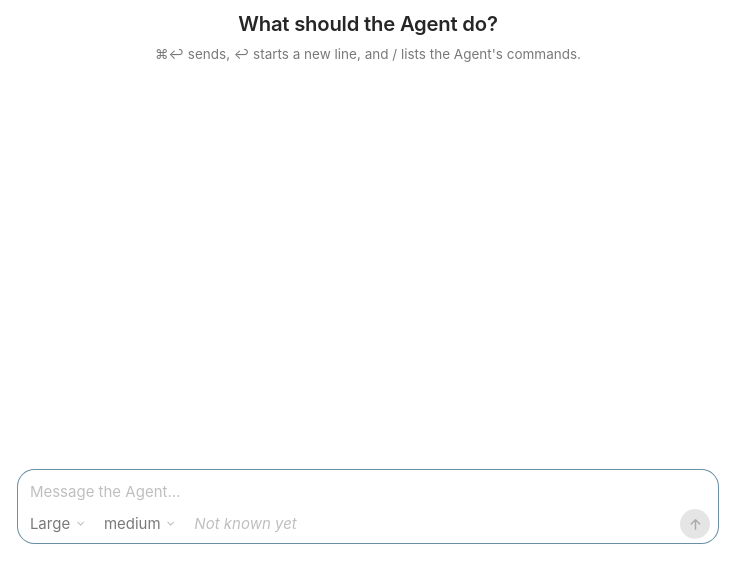
Test: an open picker › closes when the keyboard leaves it
Click the dropdown named "Model" at {"x": 58, "y": 524}, box [22,510,94,538]
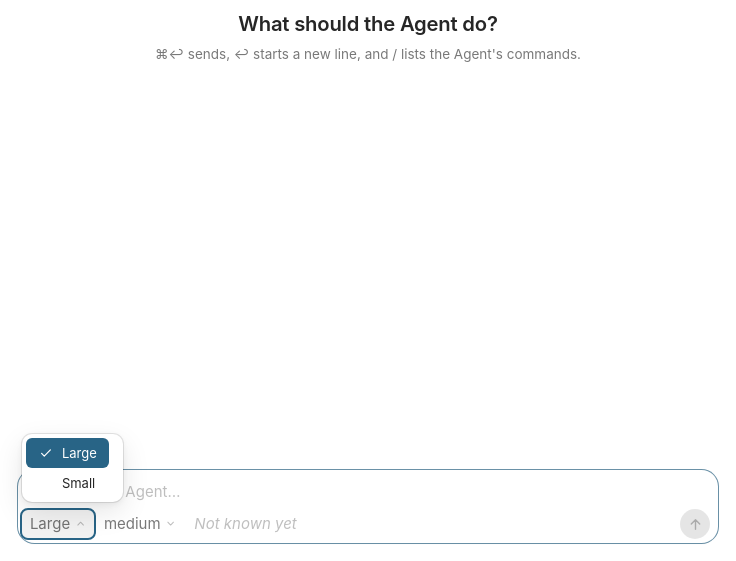
Leave the dropdown named "Model", box [22,510,94,538]
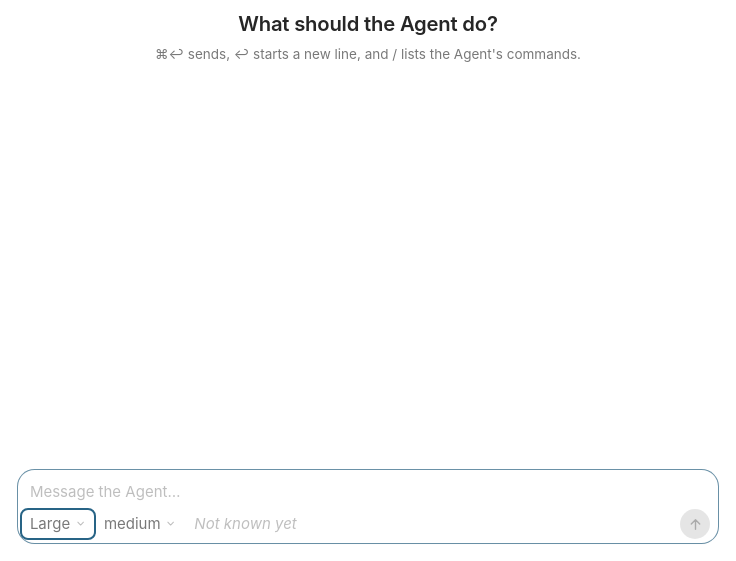
Check: the list is gone
